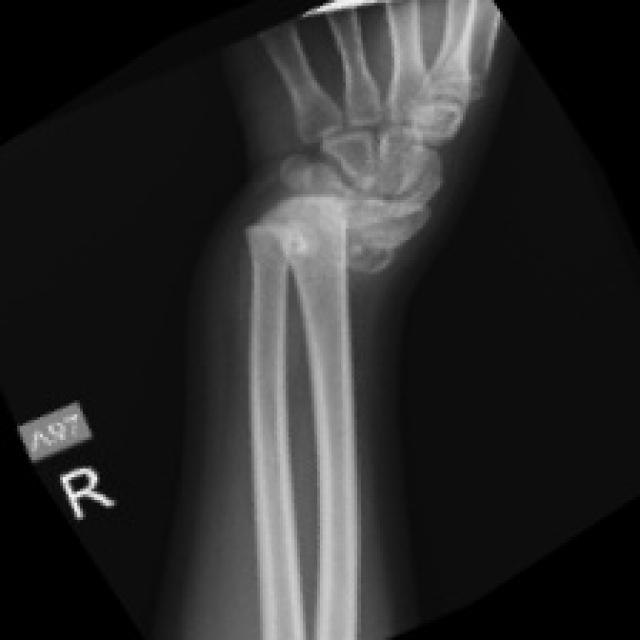fracture: (205, 138, 370, 331)
